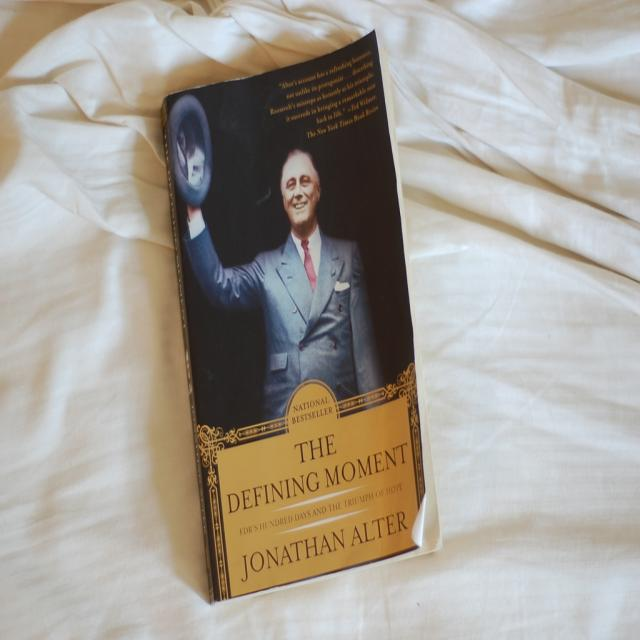Book: (160, 26, 443, 607)
